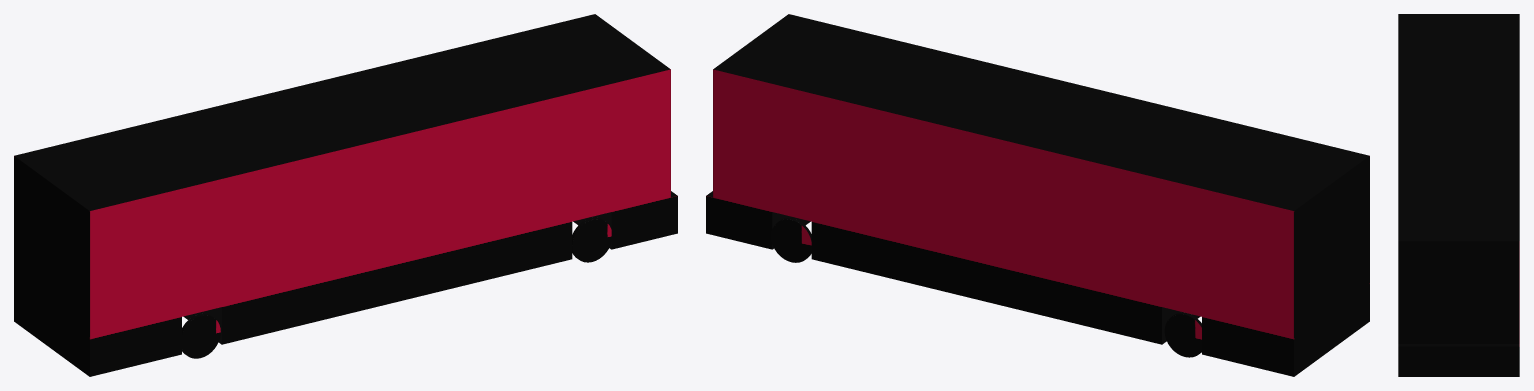
File: bus.gltf
3 renders of one model, left to right at view 1: azimuth 30°, elevation 25°; view 2: azimuth 150°, elevation 25°; view 3: azimuth 270°, elevation 25°, orthographic. The views are drawn at different scales.
Parts seen in each view (by area): view 1: Cube; view 2: Cube; view 3: Cube.
Part boxes in pixels (box(x1,y1,x2,y2)): Cube: box(14, 14, 677, 376); Cube: box(706, 14, 1369, 376); Cube: box(1398, 14, 1519, 376).
Bounding box in the file's own units: 3.45 × 0.9807 × 0.77.
Materials: 1 (1 with a texture image).
